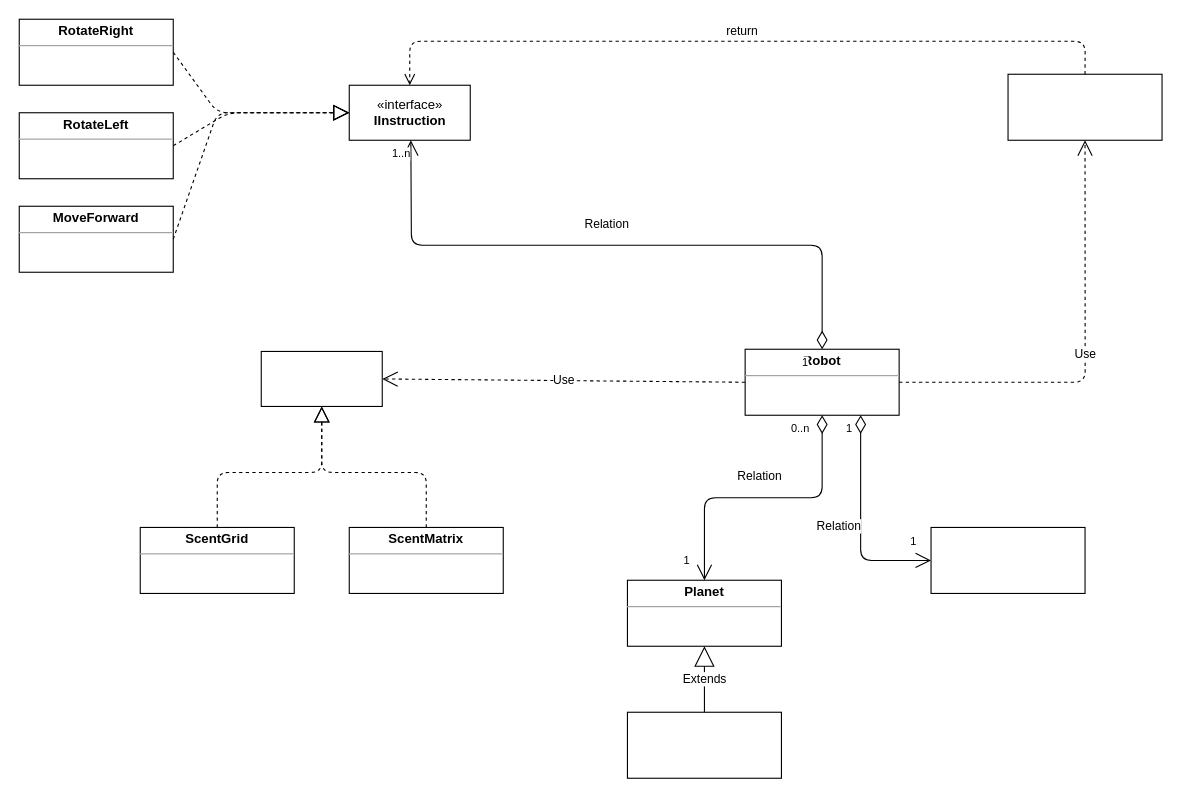
Image size: 1181x798. Some labels were removed from this diagram. The shapes that lost their labels are listed below. From the top down, each one's centre as x and y in pixels, then its label:
(x=1084, y=106): InstructionFactory
(x=321, y=378): «interface» IScent
(x=1007, y=559): Position
(x=703, y=744): Mars
